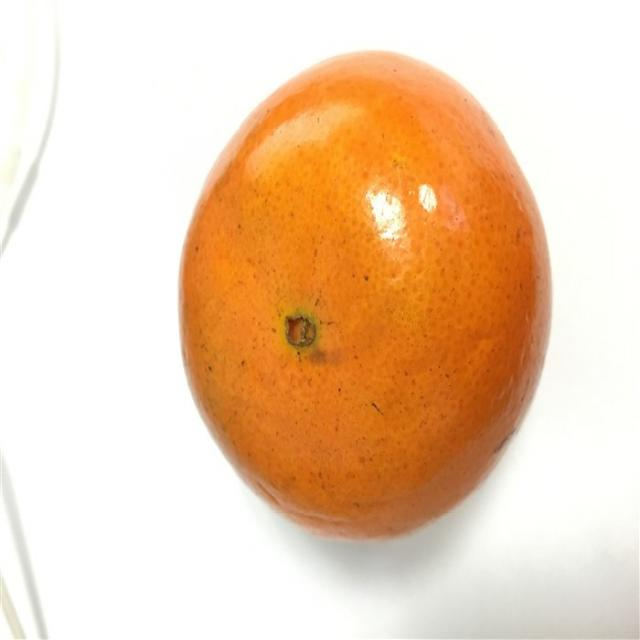Orange: (172, 53, 555, 539)
